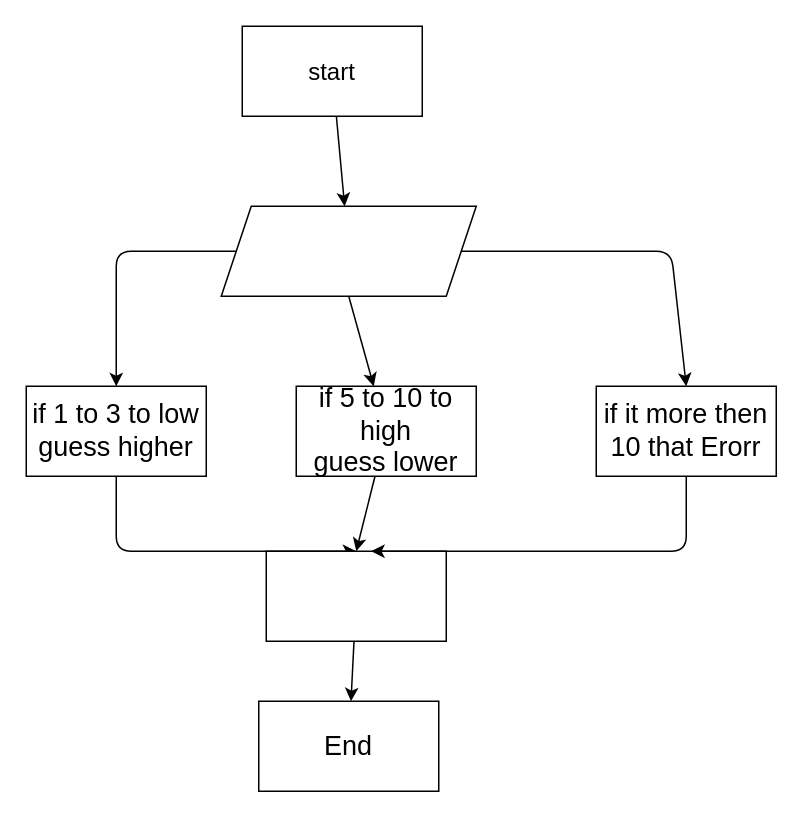
The diagram is 803 pixels wide and 818 high, and some of its shapes have lost their labels. Each missing label, with the box of its shape:
correct number is 4: (265, 550, 446, 641)
N=1 To 10: (220, 205, 476, 296)
